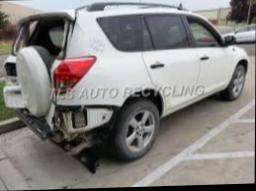Bumper: (6, 109, 122, 154)
Dickey: (4, 15, 73, 131)
Windshield: (15, 20, 70, 57)
